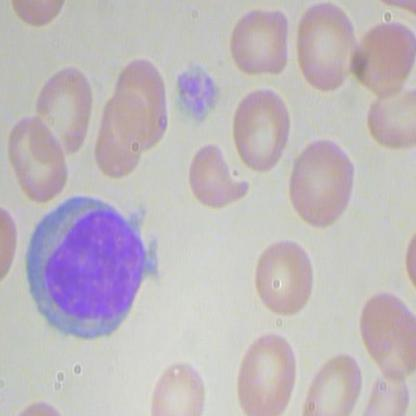RBC: (283, 135, 360, 237), (291, 1, 364, 93), (226, 83, 296, 177), (231, 328, 303, 415), (248, 237, 321, 318), (35, 63, 96, 157), (6, 109, 67, 203), (112, 55, 173, 148), (356, 289, 415, 383), (183, 130, 251, 211), (223, 1, 291, 81), (143, 353, 214, 415)
WBC: (18, 193, 166, 353)
